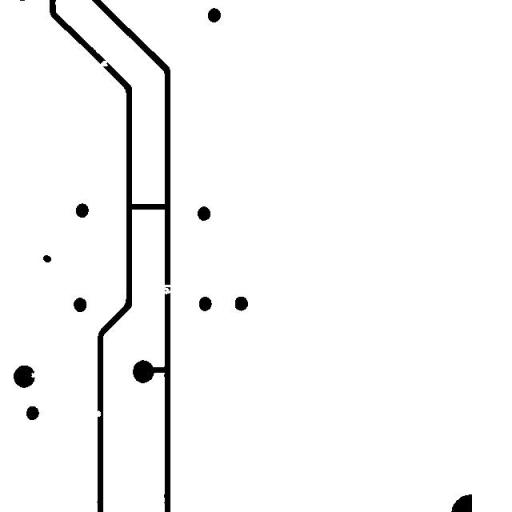copper: (36, 247, 58, 270)
mousebite: (87, 402, 108, 424), (23, 365, 43, 385)
open: (151, 276, 179, 302), (92, 52, 115, 74)
short: (118, 196, 176, 217), (143, 359, 175, 380)
